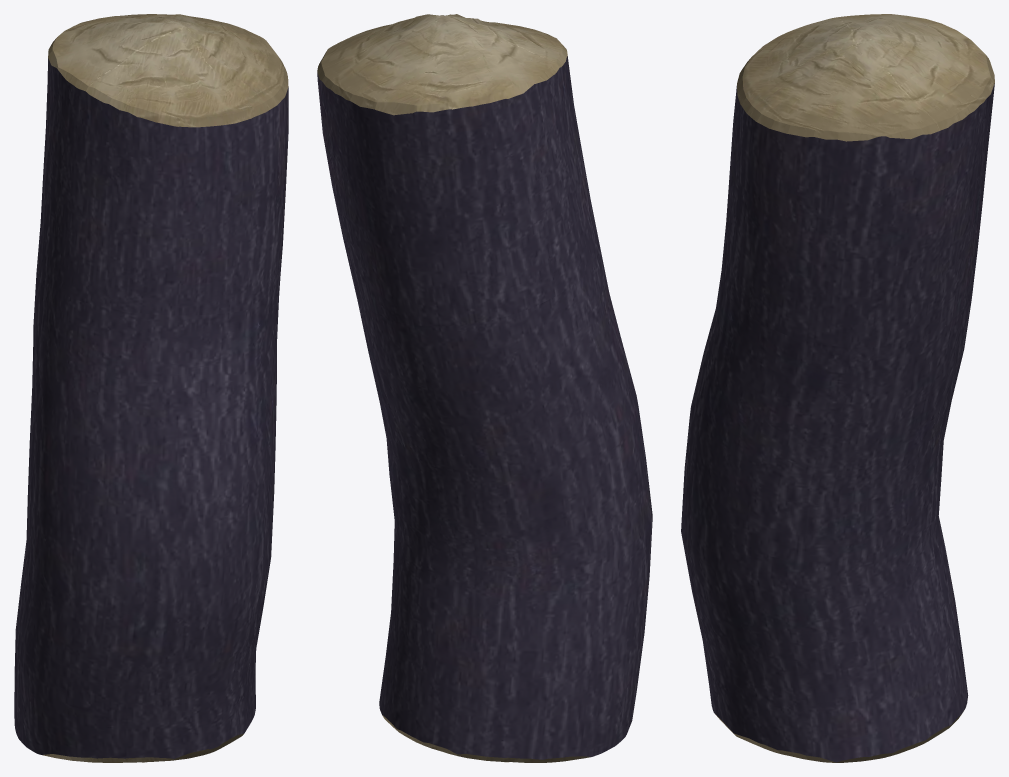
3 views of the same model, side by side, from view 1: azimuth 30°, elevation 25°; view 2: azimuth 150°, elevation 25°; view 3: azimuth 270°, elevation 25° (orthographic). The views are drawn at different scales.
Visible parts, largest first — view 1: SM_FH_Oak_Tree_02_quarter_03_LOD0; view 2: SM_FH_Oak_Tree_02_quarter_03_LOD0; view 3: SM_FH_Oak_Tree_02_quarter_03_LOD0.
Boxes of the visible parts, left/top/right/bottom form: SM_FH_Oak_Tree_02_quarter_03_LOD0: left=14, top=14, right=288, bottom=762; SM_FH_Oak_Tree_02_quarter_03_LOD0: left=317, top=14, right=652, bottom=762; SM_FH_Oak_Tree_02_quarter_03_LOD0: left=681, top=14, right=994, bottom=762.
Size of the model in its own units: 1.13 by 2.92 by 1.11.
Materials: 1 (1 with a texture image).
